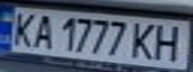1: (54, 15, 78, 52)
7: (106, 18, 130, 56), (90, 16, 112, 55), (72, 15, 93, 53)
A: (30, 11, 57, 50)
H: (148, 21, 190, 63)
K: (127, 19, 160, 61), (6, 9, 39, 48)
